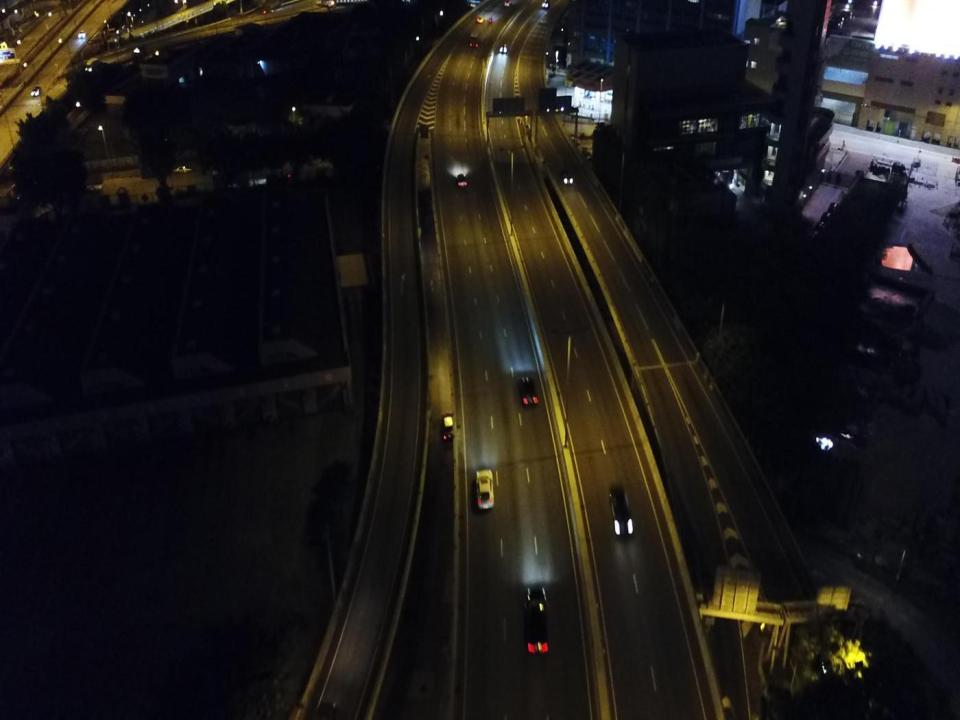car: (524, 587, 549, 654), (608, 485, 632, 538), (474, 468, 494, 511), (519, 374, 536, 408), (439, 413, 454, 440), (562, 170, 574, 185), (271, 172, 291, 180), (174, 166, 193, 174), (458, 173, 468, 188), (30, 86, 41, 96), (499, 43, 507, 54), (476, 15, 484, 23), (78, 30, 86, 38), (542, 0, 549, 8), (504, 0, 512, 5)
truck: (469, 30, 479, 47)
